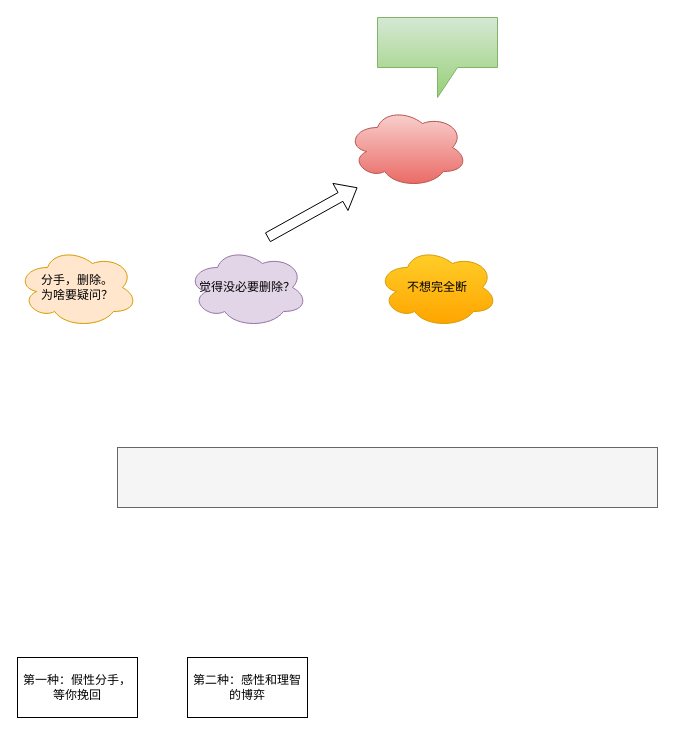
Some shapes in this 675 by 735 pixel diagram are drawn without their labels. Each missing label, with the box of its shape:
你受伤害？: (376, 16, 498, 98)
你把我删了？: (116, 446, 658, 508)
受到伤害？: (346, 106, 468, 188)
